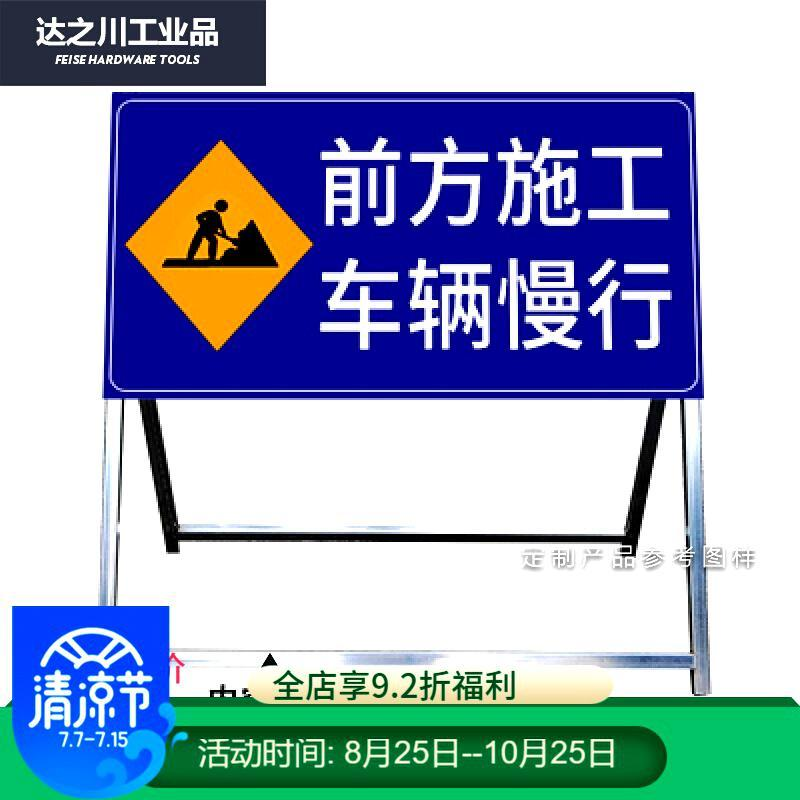sign: (114, 93, 699, 396)
